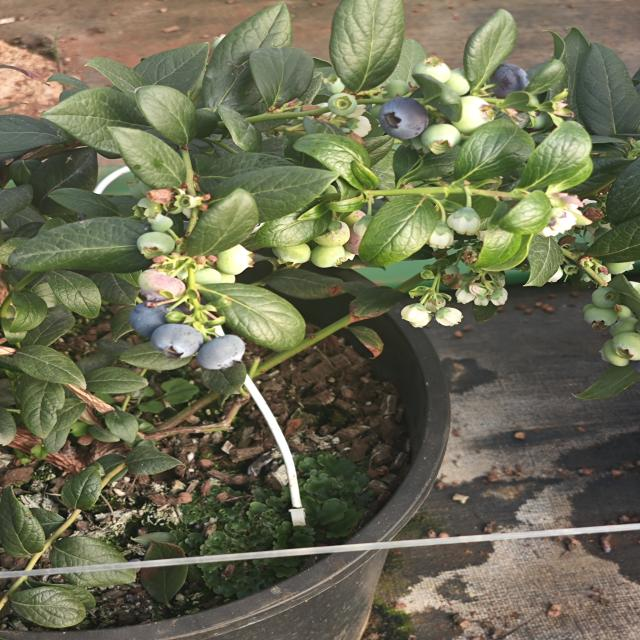ripe: (375, 95, 431, 143), (148, 322, 205, 362), (194, 333, 248, 373), (121, 299, 180, 332), (491, 63, 537, 91)
